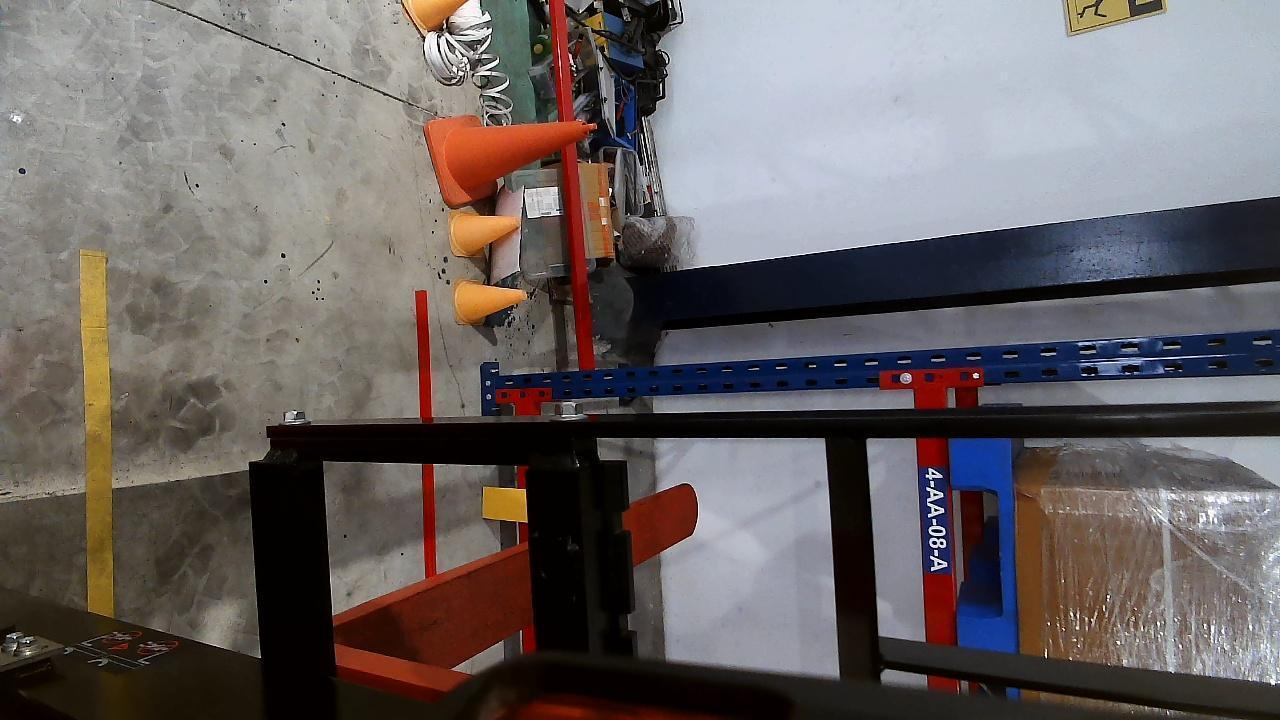red_line: (413, 289, 438, 573)
yellow_line: (79, 249, 113, 617)
